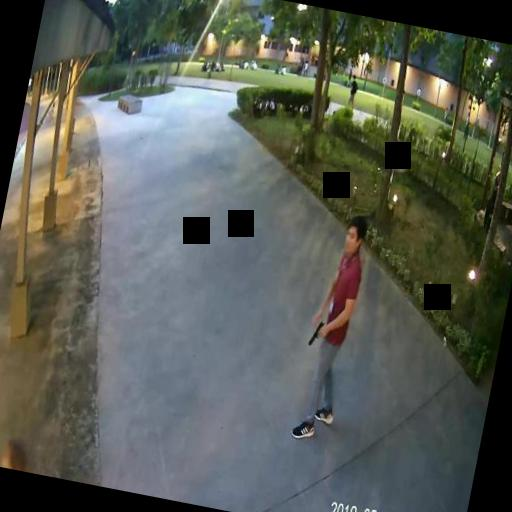Handgun: (307, 319, 325, 347)
